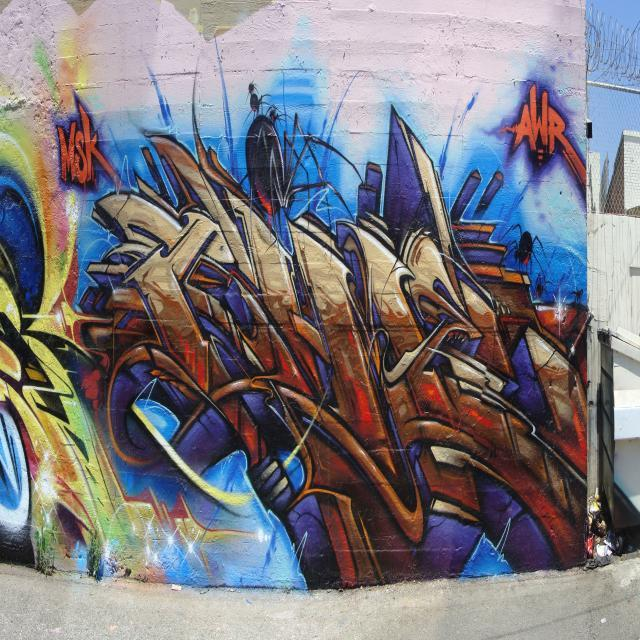-: (2, 50, 590, 592)
